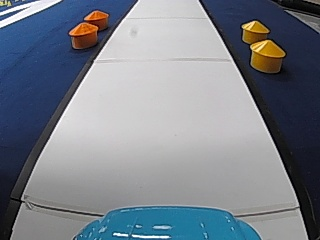granary: (247, 38, 286, 72), (66, 20, 98, 49), (239, 18, 270, 44), (83, 8, 108, 30)
